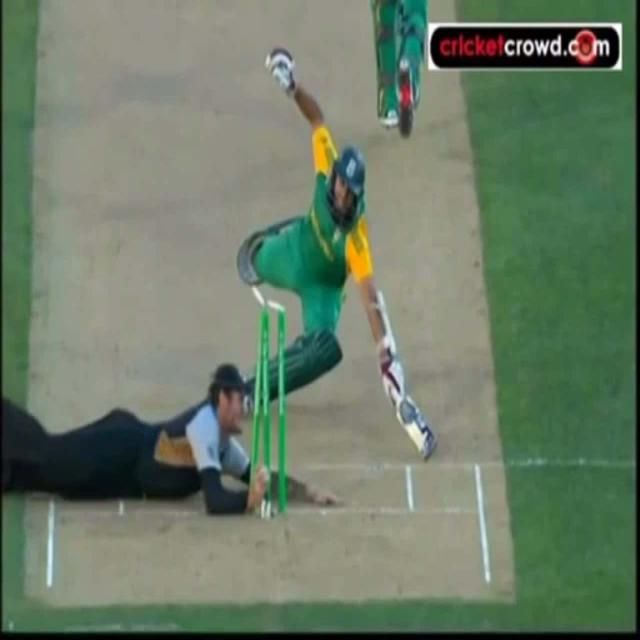stump: (248, 285, 287, 516)
